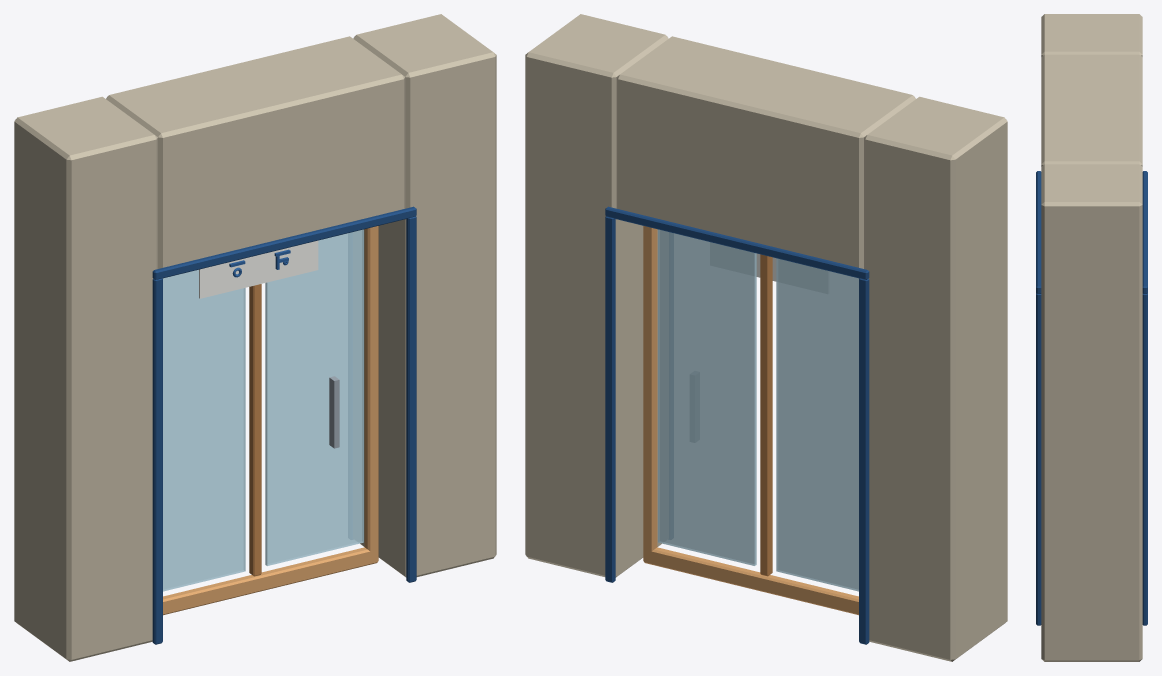
File: door.fbx
3 renders of one model, left to right at view 1: azimuth 30°, elevation 25°; view 2: azimuth 150°, elevation 25°; view 3: azimuth 270°, elevation 25°, orthographic. The views are drawn at different scales.
Visible parts, largest first — view 1: door, Door; view 2: door, Door; view 3: door.
Boxes of the visible parts, x1=… form: door: x1=14, y1=14, x2=496, y2=661; Door: x1=163, y1=226, x2=378, y2=615; door: x1=525, y1=14, x2=1007, y2=661; Door: x1=643, y1=226, x2=858, y2=615; door: x1=1036, y1=14, x2=1147, y2=661.
Size of the model in its own units: 4 by 4.5 by 0.99.
